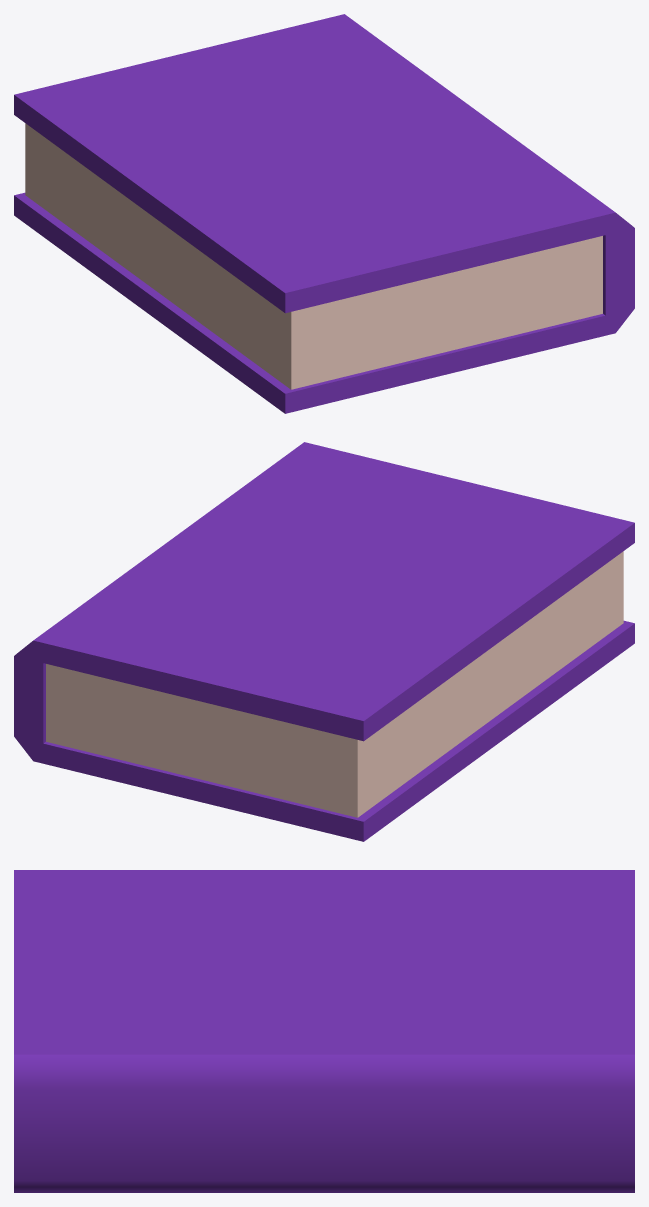
Rendered from SM_Book_1.fbx.
3 renders of one model, top to bottom at view 1: azimuth 30°, elevation 25°; view 2: azimuth 150°, elevation 25°; view 3: azimuth 270°, elevation 25°, orthographic. The views are drawn at different scales.
Parts seen in each view (by area): view 1: Book2; view 2: Book2; view 3: Book2.
Part boxes in pixels (box(x1,y1,x2,y2)): Book2: box(14, 14, 634, 413); Book2: box(14, 442, 634, 841); Book2: box(14, 870, 634, 1192).
Size of the model in its own units: 0.2677 by 0.0883 by 0.3595.
1 material, 1 textured.
